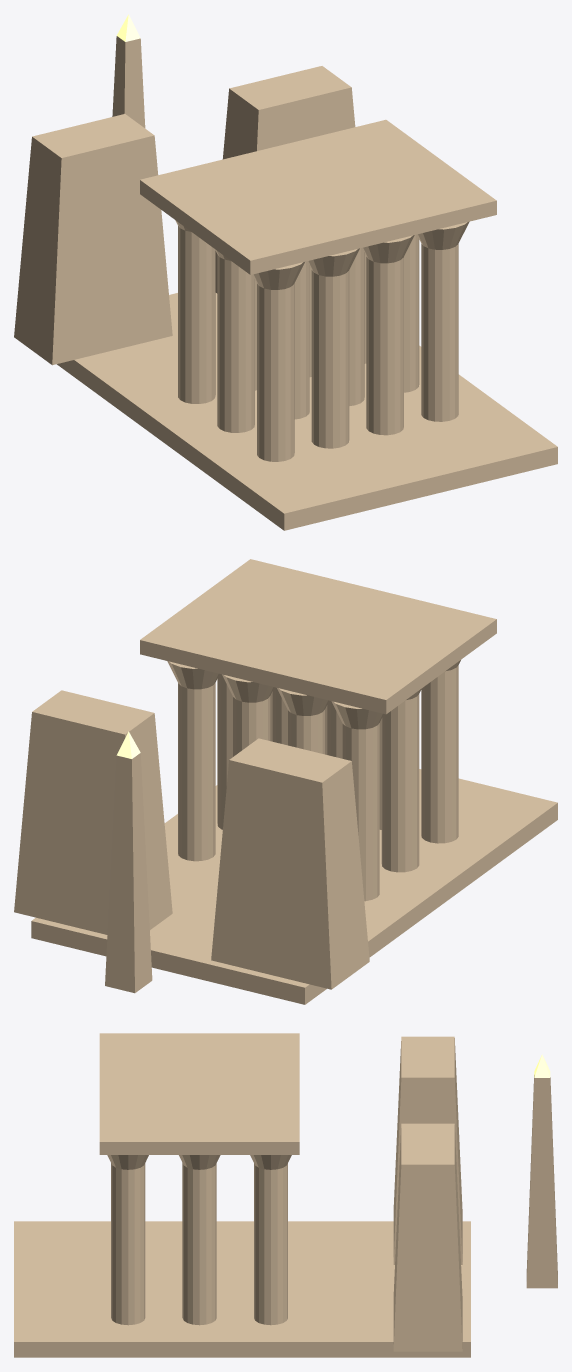
Rendered from egyptian.glb.
3 views of the same model, one above another, from view 1: azimuth 30°, elevation 25°; view 2: azimuth 150°, elevation 25°; view 3: azimuth 270°, elevation 25° (orthographic). The views are drawn at different scales.
Parts seen in each view (by area): view 1: egyptian; view 2: egyptian; view 3: egyptian.
Part boxes in pixels (x1,y1,x2,y2): egyptian: [14, 14, 557, 530]; egyptian: [14, 559, 557, 1004]; egyptian: [14, 1033, 557, 1357].
Bounding box in the file's own units: 12.34 × 10 × 20.27.
